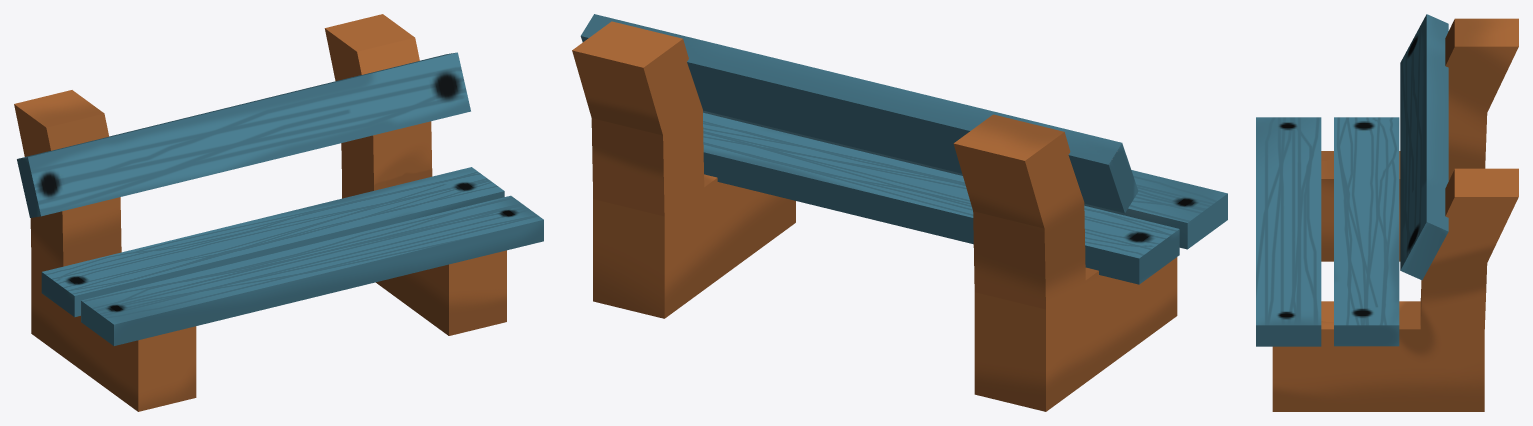
The model's file is Banca_prefab.fbx.
3 renders of one model, left to right at view 1: azimuth 30°, elevation 25°; view 2: azimuth 150°, elevation 25°; view 3: azimuth 270°, elevation 25°, orthographic. The views are drawn at different scales.
Visible parts, largest first — view 1: Cube.005, Cube.002, Cube.004, Cube.003, Cube.001; view 2: Cube.004, Cube.001, Cube.005, Cube.003, Cube.002; view 3: Cube.001, Cube.002, Cube.003, Cube.005, Cube.004.
Part boxes in pixels (<box>): Cube.005: <box>17,52,470,217</box>; Cube.002: <box>81,195,543,345</box>; Cube.004: <box>14,90,196,411</box>; Cube.003: <box>41,167,504,317</box>; Cube.001: <box>324,14,506,335</box>; Cube.004: <box>953,114,1177,411</box>; Cube.001: <box>572,21,795,318</box>; Cube.005: <box>580,14,1138,213</box>; Cube.003: <box>703,112,1179,284</box>; Cube.002: <box>703,110,1227,249</box>; Cube.001: <box>1272,168,1518,411</box>; Cube.002: <box>1256,117,1321,346</box>; Cube.003: <box>1334,117,1399,346</box>; Cube.005: <box>1400,14,1448,280</box>; Cube.004: <box>1321,18,1518,261</box>.
Size of the model in its own units: 464 by 224 by 248.
1 material, 1 textured.
